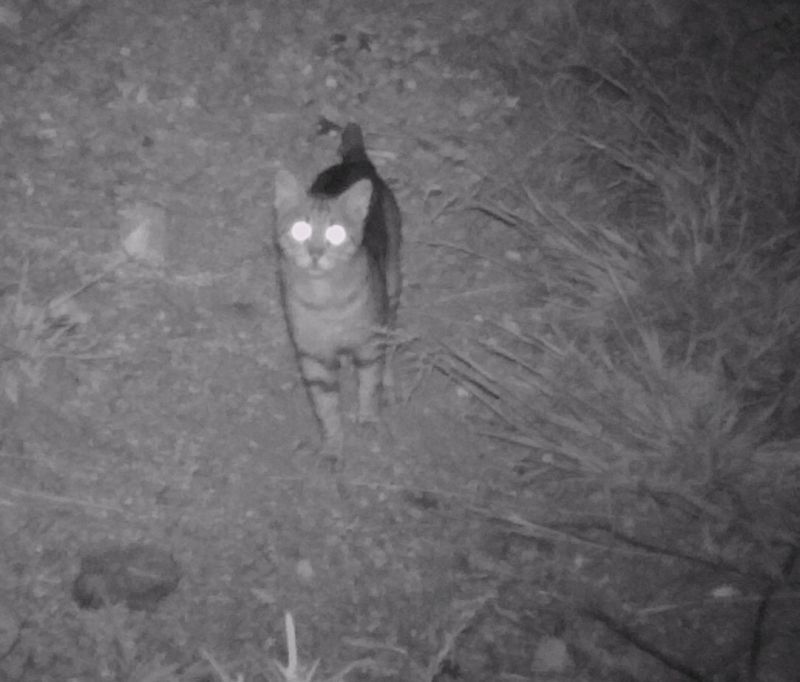house cat: (255, 134, 443, 458)
